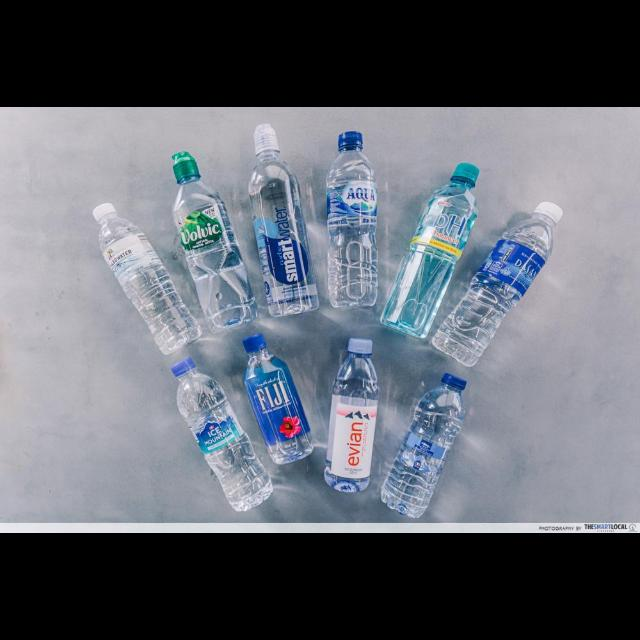garrafa plástica: (430, 214, 562, 368), (378, 181, 479, 341), (99, 216, 203, 358), (172, 375, 274, 513), (168, 178, 258, 332), (245, 152, 321, 318), (381, 384, 465, 520), (326, 150, 380, 310), (242, 350, 316, 466), (322, 354, 380, 494)
tampa plástica: (253, 124, 279, 160), (534, 200, 564, 227), (450, 162, 480, 188), (173, 159, 201, 183), (91, 201, 119, 223), (345, 335, 373, 357), (241, 331, 267, 353), (170, 356, 196, 378), (336, 130, 364, 150), (444, 372, 468, 392)
